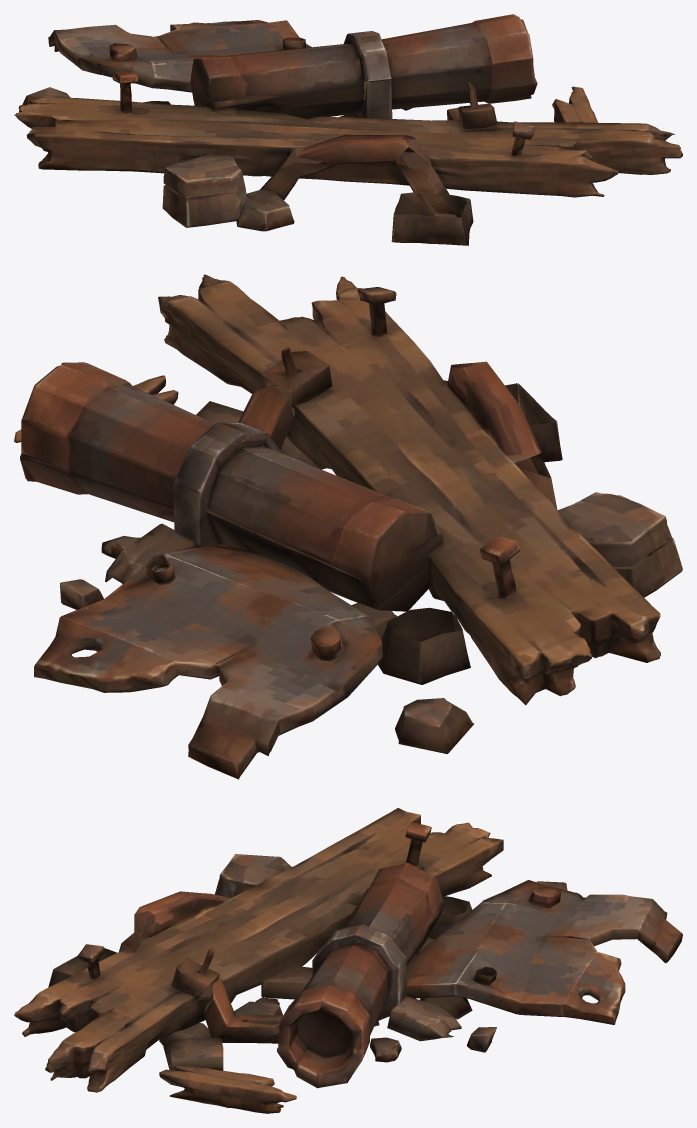
The model's file is debris_low.glb.
The picture shows the model from 3 angles, top to bottom: view 1: azimuth 30°, elevation 25°; view 2: azimuth 150°, elevation 25°; view 3: azimuth 270°, elevation 25°; orthographic projection. The views are drawn at different scales.
Visible parts, largest first — view 1: tripo_node_8a270914-c2ef-42cd-b138-ab412da5c7ac; view 2: tripo_node_8a270914-c2ef-42cd-b138-ab412da5c7ac; view 3: tripo_node_8a270914-c2ef-42cd-b138-ab412da5c7ac.
Boxes of the visible parts, x1,y1,x2,y2 form: tripo_node_8a270914-c2ef-42cd-b138-ab412da5c7ac: [14, 14, 682, 245]; tripo_node_8a270914-c2ef-42cd-b138-ab412da5c7ac: [14, 274, 682, 779]; tripo_node_8a270914-c2ef-42cd-b138-ab412da5c7ac: [14, 808, 682, 1113].
Size of the model in its own units: 0.8982 by 0.1566 by 1.
Materials: 1 (1 with a texture image).
